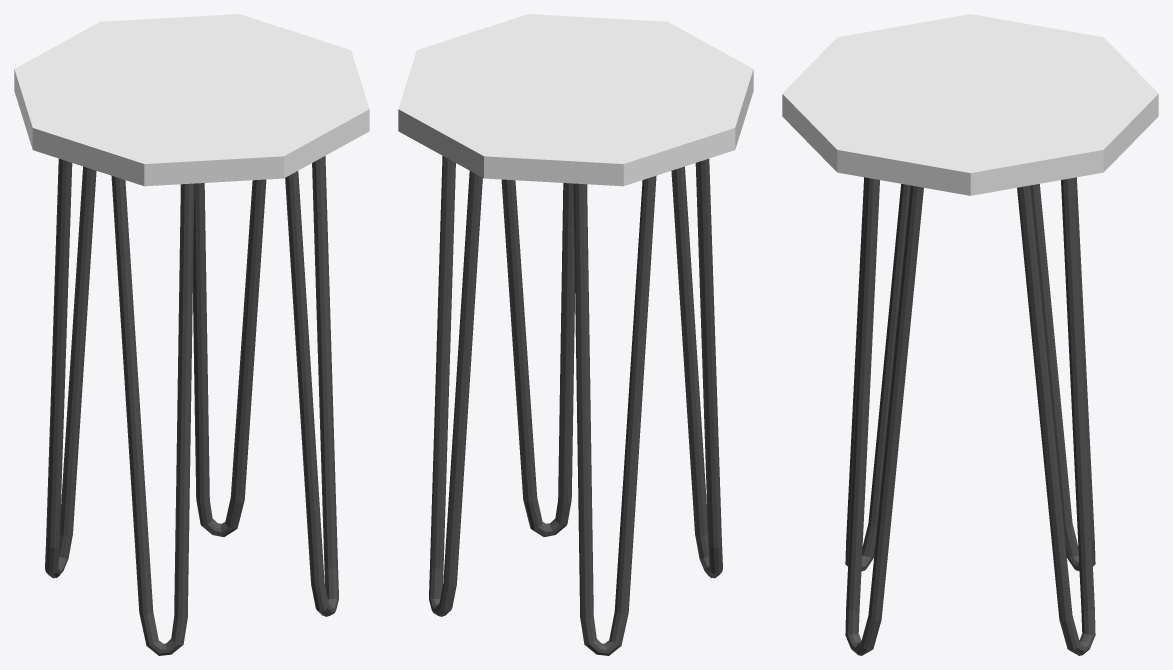
The model's file is Office2_little_table.fbx.
3 renders of one model, left to right at view 1: azimuth 30°, elevation 25°; view 2: azimuth 150°, elevation 25°; view 3: azimuth 270°, elevation 25°, orthographic. The views are drawn at different scales.
Parts seen in each view (by area): view 1: Office2_little_table; view 2: Office2_little_table; view 3: Office2_little_table.
Part boxes in pixels (x1,y1,x2,y2): Office2_little_table: (14,14,369,655); Office2_little_table: (398,14,753,655); Office2_little_table: (782,14,1158,655).
Bounding box in the file's own units: 88.95 × 88.95 × 135.
